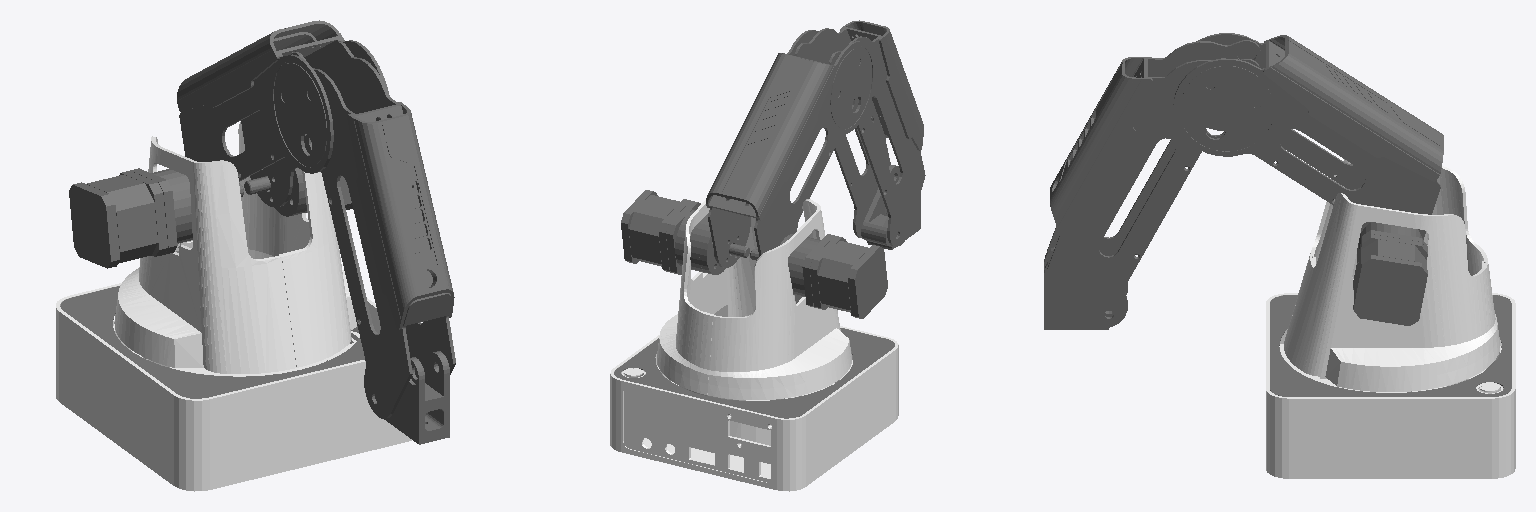
The robot description file, URDF, robot "magician":
<?xml version="1.0" encoding="utf-8"?>
<!-- =================================================================================== -->
<!-- |    This document was autogenerated by xacro from magician.urdf.xacro            | -->
<!-- |    EDITING THIS FILE BY HAND IS NOT RECOMMENDED                                 | -->
<!-- =================================================================================== -->
<!-- This URDF was automatically created by SolidWorks to URDF Exporter! Originally created by [author] ([email redacted]) 
     Commit Version: 1.5.0-0-g9aa0fdb  Build Version: 1.5.7004.21443
     For more information, please see http://wiki.ros.org/sw_urdf_exporter -->
<robot name="magician">
  <!-- ros_control plugin -->
  <gazebo>
    <plugin filename="libgazebo_ros_control.so" name="gazebo_ros_control">
      <robotSimType>gazebo_ros_control/DefaultRobotHWSim</robotSimType>
      <legacyModeNS>true</legacyModeNS>
    </plugin>
  </gazebo>
  <!-- mimicjoints -->
  <gazebo>
    <plugin filename="libroboticsgroup_gazebo_mimic_joint_plugin.so" name="mimic_plugin1">
      <joint>magician_joint2</joint>
      <mimicJoint>magician_fake_joint1</mimicJoint>
      <multiplier>-1.0</multiplier>
    </plugin>
  </gazebo>
  <gazebo>
    <plugin filename="libroboticsgroup_gazebo_mimic_joint_plugin.so" name="mimic_plugin2">
      <joint>magician_joint3</joint>
      <mimicJoint>magician_fake_joint2</mimicJoint>
      <multiplier>-1.0</multiplier>
    </plugin>
  </gazebo>
  <!-- visual -->
  <gazebo reference="magician_base_surface">
    <visual name="visual">
      <material>
        <script>
          <uri>file:/[local-path]/scripts/gazebo.material</uri>
          <name>Gazebo/Grey</name>
        </script>
      </material>
    </visual>
  </gazebo>
  <gazebo reference="magician_servos">
    <visual name="visual">
      <material>
        <script>
          <uri>file:/[local-path]/scripts/gazebo.material</uri>
          <name>Gazebo/Grey</name>
        </script>
      </material>
    </visual>
  </gazebo>
  <gazebo reference="magician_link2">
    <visual name="visual">
      <material>
        <script>
          <uri>file:/[local-path]/scripts/gazebo.material</uri>
          <name>Gazebo/Grey</name>
        </script>
      </material>
    </visual>
  </gazebo>
  <gazebo reference="magician_link2_surface">
    <visual name="visual">
      <material>
        <script>
          <uri>file:/[local-path]/scripts/gazebo.material</uri>
          <name>Gazebo/Grey</name>
        </script>
      </material>
    </visual>
  </gazebo>
  <gazebo reference="magician_link3">
    <visual name="visual">
      <material>
        <script>
          <uri>file:/[local-path]/scripts/gazebo.material</uri>
          <name>Gazebo/Grey</name>
        </script>
      </material>
    </visual>
  </gazebo>
  <gazebo reference="magician_link3_surface">
    <visual name="visual">
      <material>
        <script>
          <uri>file:/[local-path]/scripts/gazebo.material</uri>
          <name>Gazebo/Grey</name>
        </script>
      </material>
    </visual>
  </gazebo>
  <gazebo reference="magician_link4">
    <visual name="visual">
      <material>
        <script>
          <uri>file:/[local-path]/scripts/gazebo.material</uri>
          <name>Gazebo/Grey</name>
        </script>
      </material>
    </visual>
  </gazebo>
  <link name="base_link">
    <inertial>
      <origin rpy="0 0 0" xyz="-0.00019215 -0.10884 0.23391"/>
      <mass value="26.051"/>
      <inertia ixx="0.52558" ixy="-0.00076155" ixz="0.00076702" iyy="1.5311" iyz="0.016651" izz="1.1217"/>
    </inertial>
    <visual>
      <origin rpy="0 0 0" xyz="0 0 0"/>
      <geometry>
        <mesh filename="package://magician_description/meshes/base_link.STL"/>
      </geometry>
      <material name="">
        <color rgba="0.52941 0.54902 0.54902 1"/>
      </material>
    </visual>
    <collision>
      <origin rpy="0 0 0" xyz="0 0 0"/>
      <geometry>
        <mesh filename="package://magician_description/meshes/base_link.STL"/>
      </geometry>
    </collision>
  </link>
  <link name="camera1">
    <inertial>
      <origin rpy="0 0 0" xyz="-0.0125 0.006 -2.7756E-17"/>
      <mass value="0.02"/>
      <inertia ixx="2.7483E-06" ixy="-5.6469E-23" ixz="4.5613E-23" iyy="2.0833E-06" iyz="2.9848E-23" izz="2.7483E-06"/>
    </inertial>
    <visual>
      <origin rpy="0 0 0" xyz="0 0 0"/>
      <geometry>
        <mesh filename="package://magician_description/meshes/camera1.STL"/>
      </geometry>
      <material name="">
        <color rgba="0.79608 0.82353 0.93725 1"/>
      </material>
    </visual>
    <collision>
      <origin rpy="0 0 0" xyz="0 0 0"/>
      <geometry>
        <mesh filename="package://magician_description/meshes/camera1.STL"/>
      </geometry>
    </collision>
  </link>
  <joint name="camera1" type="fixed">
    <origin rpy="0 0 0" xyz="-0.215 0.582 0.1115"/>
    <parent link="base_link"/>
    <child link="camera1"/>
    <axis xyz="0 0 0"/>
  </joint>
  <link name="camera2">
    <inertial>
      <origin rpy="0 0 0" xyz="0.0125 0.006 0"/>
      <mass value="0.02"/>
      <inertia ixx="2.7483E-06" ixy="-1.7546E-23" ixz="-8.267E-23" iyy="2.0833E-06" iyz="3.5827E-22" izz="2.7483E-06"/>
    </inertial>
    <visual>
      <origin rpy="0 0 0" xyz="0 0 0"/>
      <geometry>
        <mesh filename="package://magician_description/meshes/camera2.STL"/>
      </geometry>
      <material name="">
        <color rgba="0.79608 0.82353 0.93725 1"/>
      </material>
    </visual>
    <collision>
      <origin rpy="0 0 0" xyz="0 0 0"/>
      <geometry>
        <mesh filename="package://magician_description/meshes/camera2.STL"/>
      </geometry>
    </collision>
  </link>
  <joint name="camera2" type="fixed">
    <origin rpy="0 0 0" xyz="0.233 0.582 0.1115 "/>
    <parent link="base_link"/>
    <child link="camera2"/>
    <axis xyz="0 0 0"/>
  </joint>
  <transmission name="magician_joint1_trans">
    <type>transmission_interface/SimpleTransmission</type>
    <joint name="magician_joint1">
      <hardwareInterface>hardware_interface/PositionJointInterface</hardwareInterface>
    </joint>
    <actuator name="magician_joint1_motor">
      <mechanicalReduction>1</mechanicalReduction>
    </actuator>
  </transmission>
  <transmission name="magician_joint2_trans">
    <type>transmission_interface/SimpleTransmission</type>
    <joint name="magician_joint2">
      <hardwareInterface>hardware_interface/PositionJointInterface</hardwareInterface>
    </joint>
    <actuator name="magician_joint2_motor">
      <mechanicalReduction>1</mechanicalReduction>
    </actuator>
  </transmission>
  <transmission name="magician_fake_joint1">
    <type>transmission_interface/SimpleTransmission</type>
    <joint name="magician_fake_joint1">
      <hardwareInterface>hardware_interface/PositionJointInterface</hardwareInterface>
    </joint>
    <actuator name="magician_fake_joint1_motor">
      <mechanicalReduction>1</mechanicalReduction>
    </actuator>
  </transmission>
  <transmission name="magician_joint3_trans">
    <type>transmission_interface/SimpleTransmission</type>
    <joint name="magician_joint3">
      <hardwareInterface>hardware_interface/PositionJointInterface</hardwareInterface>
    </joint>
    <actuator name="magician_joint3_motor">
      <mechanicalReduction>1</mechanicalReduction>
    </actuator>
  </transmission>
  <transmission name="magician_fake_joint2">
    <type>transmission_interface/SimpleTransmission</type>
    <joint name="magician_fake_joint2">
      <hardwareInterface>hardware_interface/PositionJointInterface</hardwareInterface>
    </joint>
    <actuator name="magician_fake_joint2_motor">
      <mechanicalReduction>1</mechanicalReduction>
    </actuator>
  </transmission>
  <link name="world"/>
  <joint name="world_joint" type="fixed">
    <origin rpy="0 0 0" xyz="0 0 0"/>
    <parent link="world"/>
    <child link="base_link"/>
    <axis xyz="0 0 0"/>
  </joint>
  <link name="magician_origin"/>
  <joint name="magician_frame_joint" type="fixed">
    <origin rpy="0 0 0" xyz="0 0 0.262"/>
    <parent link="base_link"/>
    <child link="magician_origin"/>
    <axis xyz="0 0 0"/>
  </joint>
  <link name="magician_base">
    <inertial>
      <origin rpy="0 0 0" xyz="-0.00035432 -0.00080566 0.023187"/>
      <mass value="0.23009"/>
      <inertia ixx="0.00065784" ixy="-4.8312E-06" ixz="1.2493E-06" iyy="0.00069673" iyz="4.3823E-07" izz="0.0012945"/>
    </inertial>
    <visual>
      <origin rpy="0 0 0" xyz="0 0 0"/>
      <geometry>
        <mesh filename="package://magician_description/meshes/magician_base.STL"/>
      </geometry>
      <material name="">
        <color rgba="1 1 1 1"/>
      </material>
    </visual>
    <collision>
      <origin rpy="0 0 0" xyz="0 0 0"/>
      <geometry>
        <mesh filename="package://magician_description/meshes/magician_base.STL"/>
      </geometry>
    </collision>
  </link>
  <joint name="magician_origin_joint1" type="fixed">
    <origin rpy="0 0 0" xyz="0 0 -0.139"/>
    <parent link="magician_origin"/>
    <child link="magician_base"/>
    <axis xyz="0 0 0"/>
  </joint>
  <link name="magician_link1">
    <inertial>
      <origin rpy="0 0 0" xyz="0.00024809 -0.00074864 0.040762"/>
      <mass value="0.081469"/>
      <inertia ixx="0.00020859" ixy="8.163E-08" ixz="4.6298E-07" iyy="9.5838E-05" iyz="3.2246E-06" izz="0.00015246"/>
    </inertial>
    <visual>
      <origin rpy="0 0 0" xyz="0 0 0"/>
      <geometry>
        <mesh filename="package://magician_description/meshes/magician_link1.STL"/>
      </geometry>
      <material name="">
        <color rgba="1 1 1 1"/>
      </material>
    </visual>
    <collision>
      <origin rpy="0 0 0" xyz="0 0 0"/>
      <geometry>
        <mesh filename="package://magician_description/meshes/magician_link1.STL"/>
      </geometry>
    </collision>
  </link>
  <joint name="magician_joint1" type="revolute">
    <origin rpy="0 0 0" xyz="0 0 0.0569"/>
    <parent link="magician_base"/>
    <child link="magician_link1"/>
    <axis xyz="0 0 1"/>
    <limit effort="6" lower="-2.1816" upper="2.1816" velocity="1.57"/>
  </joint>
  <link name="magician_link2">
    <inertial>
      <origin rpy="0 0 0" xyz="-0.076276 0.029436 2.1815E-06"/>
      <mass value="0.047726"/>
      <inertia ixx="3.5818E-05" ixy="-4.4023E-06" ixz="-7.1903E-09" iyy="0.00014556" iyz="2.3353E-09" izz="0.00015167"/>
    </inertial>
    <visual>
      <origin rpy="0 0 0" xyz="0 0 0"/>
      <geometry>
        <mesh filename="package://magician_description/meshes/magician_link2.STL"/>
      </geometry>
      <material name="">
        <color rgba="0.501960784313725 0.501960784313725 0.501960784313725 1"/>
      </material>
    </visual>
    <collision>
      <origin rpy="0 0 0" xyz="0 0 0"/>
      <geometry>
        <mesh filename="package://magician_description/meshes/magician_link2.STL"/>
      </geometry>
    </collision>
  </link>
  <joint name="magician_joint2" type="revolute">
    <origin rpy="0 1.5707963267948966 0" xyz="0 0 0.0821"/>
    <parent link="magician_link1"/>
    <child link="magician_link2"/>
    <axis xyz="0 0 1"/>
    <limit effort="6" lower="0.35" upper="1.57" velocity="1.57"/>
  </joint>
  <link name="magician_link3">
    <inertial>
      <origin rpy="0 0 0" xyz="0.029209 -0.054163 -8.4342E-05"/>
      <mass value="0.042983"/>
      <inertia ixx="0.00013733" ixy="-9.7605E-08" ixz="-1.1091E-07" iyy="2.3432E-05" iyz="3.5599E-07" izz="0.00014558"/>
    </inertial>
    <visual>
      <origin rpy="0 0 0" xyz="0 0 0"/>
      <geometry>
        <mesh filename="package://magician_description/meshes/magician_link3.STL"/>
      </geometry>
      <material name="">
        <color rgba="0.501960784313725 0.501960784313725 0.501960784313725 1"/>
      </material>
    </visual>
    <collision>
      <origin rpy="0 0 0" xyz="0 0 0"/>
      <geometry>
        <mesh filename="package://magician_description/meshes/magician_link3.STL"/>
      </geometry>
    </collision>
  </link>
  <joint name="magician_fake_joint1" type="revolute">
    <origin rpy="-3.1415926535897932 0 -3.1415926535897932" xyz="-0.135 0 0"/>
    <parent link="magician_link2"/>
    <child link="magician_fake_link"/>
    <axis xyz="0 0 -1"/>
    <limit effort="6" lower="-1.57" upper="-0.35" velocity="1.57"/>
    <mimic joint="magician_joint2" multiplier="-1" offset="0"/>
  </joint>
  <link name="magician_fake_link">
    <inertial>
      <origin rpy="0 0 0" xyz="0 0 0"/>
      <mass value="0.025"/>
      <inertia ixx="2.5E-4" ixy="0" ixz="0" iyy="2.5E-4" iyz="0" izz="2.5E-4"/>
    </inertial>
  </link>
  <joint name="magician_joint3" type="revolute">
    <origin rpy="0 0 0" xyz="0 0 0"/>
    <parent link="magician_fake_link"/>
    <child link="magician_link3"/>
    <axis xyz="0 0 -1"/>
    <limit effort="6" lower="0.62" upper="1.57" velocity="1.57"/>
  </joint>
  <link name="magician_link4">
    <inertial>
      <origin rpy="0 0 0" xyz="-0.019694 0.0034659 0.0001155"/>
      <mass value="0.020564"/>
      <inertia ixx="3.7203E-06" ixy="7.6009E-07" ixz="3.146E-08" iyy="4.5639E-06" iyz="-5.7432E-08" izz="6.427E-06"/>
    </inertial>
    <visual>
      <origin rpy="0 0 0" xyz="0 0 0"/>
      <geometry>
        <mesh filename="package://magician_description/meshes/magician_link4.STL"/>
      </geometry>
      <material name="">
        <color rgba="0.501960784313725 0.501960784313725 0.501960784313725 1"/>
      </material>
    </visual>
    <collision>
      <origin rpy="0 0 0" xyz="0 0 0"/>
      <geometry>
        <mesh filename="package://magician_description/meshes/magician_link4.STL"/>
      </geometry>
    </collision>
  </link>
  <joint name="magician_fake_joint2" type="revolute">
    <origin rpy="3.1415926535897932 0 1.5707963267948966" xyz="0 -0.147 0"/>
    <parent link="magician_link3"/>
    <child link="magician_link4"/>
    <axis xyz="0 0 1"/>
    <limit effort="6" lower="-1.57" upper="-0.62" velocity="1.57"/>
    <mimic joint="magician_joint3" multiplier="-1" offset="0"/>
  </joint>
  <link name="magician_arm_end"/>
  <joint name="magician_link4_joint1" type="fixed">
    <origin rpy="-1.5707963267948966 3.1415926535897932 0" xyz="0 0 0"/>
    <parent link="magician_link4"/>
    <child link="magician_arm_end"/>
  </joint>
  <link name="magician_link3_surface">
    <inertial>
      <origin rpy="0 0 0" xyz="0.059385 -0.050176 -2.6308E-06"/>
      <mass value="0.015005"/>
      <inertia ixx="1.8842E-05" ixy="-3.9211E-07" ixz="4.9615E-10" iyy="3.6097E-06" iyz="-1.2797E-09" izz="1.6901E-05"/>
    </inertial>
    <visual>
      <origin rpy="0 0 0" xyz="0 0 0"/>
      <geometry>
        <mesh filename="package://magician_description/meshes/magician_link3_surface.STL"/>
      </geometry>
      <material name="">
        <color rgba="0.501960784313725 0.501960784313725 0.501960784313725 1"/>
      </material>
    </visual>
    <collision>
      <origin rpy="0 0 0" xyz="0 0 0"/>
      <geometry>
        <mesh filename="package://magician_description/meshes/magician_link3_surface.STL"/>
      </geometry>
    </collision>
  </link>
  <joint name="magician_link3_joint1" type="fixed">
    <origin rpy="0 0 0" xyz="0 0 0"/>
    <parent link="magician_link3"/>
    <child link="magician_link3_surface"/>
    <axis xyz="0 0 0"/>
  </joint>
  <link name="magician_link2_surface">
    <inertial>
      <origin rpy="0 0 0" xyz="-0.066726 0.060698 5.5359E-07"/>
      <mass value="0.018846"/>
      <inertia ixx="5.9574E-06" ixy="-5.1053E-08" ixz="3.3782E-09" iyy="2.8034E-05" iyz="-1.6336E-11" izz="2.3816E-05"/>
    </inertial>
    <visual>
      <origin rpy="0 0 0" xyz="0 0 0"/>
      <geometry>
        <mesh filename="package://magician_description/meshes/magician_link2_surface.STL"/>
      </geometry>
      <material name="">
        <color rgba="0.501960784313725 0.501960784313725 0.501960784313725 1"/>
      </material>
    </visual>
    <collision>
      <origin rpy="0 0 0" xyz="0 0 0"/>
      <geometry>
        <mesh filename="package://magician_description/meshes/magician_link2_surface.STL"/>
      </geometry>
    </collision>
  </link>
  <joint name="magician_link2_joint1" type="fixed">
    <origin rpy="0 0 0" xyz="0 0 0"/>
    <parent link="magician_link2"/>
    <child link="magician_link2_surface"/>
    <axis xyz="0 0 0"/>
  </joint>
  <link name="magician_servos">
    <inertial>
      <origin rpy="0 0 0" xyz="-3.3282E-06 0 0.0821"/>
      <mass value="0.21777"/>
      <inertia ixx="5.4372E-05" ixy="-1.467E-18" ixz="-1.6192E-19" iyy="0.00011754" iyz="7.4188E-21" izz="0.00011754"/>
    </inertial>
    <visual>
      <origin rpy="0 0 0" xyz="0 0 0"/>
      <geometry>
        <mesh filename="package://magician_description/meshes/magician_servos.STL"/>
      </geometry>
      <material name="">
        <color rgba="0.501960784313725 0.501960784313725 0.501960784313725 1"/>
      </material>
    </visual>
    <collision>
      <origin rpy="0 0 0" xyz="0 0 0"/>
      <geometry>
        <mesh filename="package://magician_description/meshes/magician_servos.STL"/>
      </geometry>
    </collision>
  </link>
  <joint name="magician_link1_joint1" type="fixed">
    <origin rpy="0 0 0" xyz="0 0 0"/>
    <parent link="magician_link1"/>
    <child link="magician_servos"/>
    <axis xyz="0 0 0"/>
  </joint>
  <link name="magician_base_surface">
    <inertial>
      <origin rpy="0 0 0" xyz="0 0 0"/>
      <mass value="0"/>
      <inertia ixx="0" ixy="0" ixz="0" iyy="0" iyz="0" izz="0"/>
    </inertial>
    <visual>
      <origin rpy="0 0 0" xyz="0 0 0"/>
      <geometry>
        <mesh filename="package://magician_description/meshes/magician_base_surface.STL"/>
      </geometry>
      <material name="">
        <color rgba="0.501960784313725 0.501960784313725 0.501960784313725 1"/>
      </material>
    </visual>
    <collision>
      <origin rpy="0 0 0" xyz="0 0 0"/>
      <geometry>
        <mesh filename="package://magician_description/meshes/magician_base_surface.STL"/>
      </geometry>
    </collision>
  </link>
  <joint name="magician_base_joint1" type="fixed">
    <origin rpy="0 0 0" xyz="0 0 0"/>
    <parent link="magician_base"/>
    <child link="magician_base_surface"/>
    <axis xyz="0 0 0"/>
  </joint>
  <link name="magician_end_turnplate"/>
  <joint name="magician_fake_joint3" type="revolute">
    <origin rpy="0 0 0" xyz="0 0 0"/>
    <parent link="magician_arm_end"/>
    <child link="magician_end_turnplate"/>
    <axis xyz="0 0 1"/>
    <limit effort="6" lower="-2.1816" upper="2.1816" velocity="1.57"/>
    <mimic joint="magician_joint1" multiplier="-1" offset="0"/>
  </joint>
  <link name="magician_end_link"/>
  <joint name="magician_end_turnplate_joint1" type="fixed">
    <origin rpy="0 0 0" xyz="0 0 0"/>
    <parent link="magician_end_turnplate"/>
    <child link="magician_end_link"/>
    <axis xyz="0 0 0"/>
  </joint>
  <link name="magician_end_effctor"/>
  <joint name="magician_end_link_joint1" type="fixed">
    <origin rpy="0 0 0" xyz="0 0 0"/>
    <parent link="magician_end_link"/>
    <child link="magician_end_effctor"/>
    <axis xyz="0 0 0"/>
  </joint>
</robot>

--- What the picture shows (computed from the rendered views, not written in the file) ---
3 views of the same robot in one strip: view 1: azimuth 30°, elevation 25°; view 2: azimuth 150°, elevation 25°; view 3: azimuth 270°, elevation 25° (orthographic).
Model magician with 19 links and 18 joints (6 revolute, 12 fixed), rooted at world, posed all joints at 0 but 4 set to mid-range because 0 is outside their limits (magician_joint2 = 0.96, magician_fake_joint1 = -0.96, magician_joint3 = 1.09, magician_fake_joint2 = -1.09).
Links seen in each view (by area): view 1: magician_link1, magician_base, magician_link3, magician_link2, magician_link3_surface, magician_servos, magician_base_surface, magician_link2_surface, magician_link4; view 2: magician_link1, magician_base, magician_servos, magician_link2_surface, magician_link3, magician_link2, magician_base_surface, magician_link3_surface, magician_link4; view 3: magician_link1, magician_base, magician_link2, magician_link3, magician_link2_surface, magician_link3_surface, magician_servos, magician_base_surface, magician_link4.
Boxes of the visible links, x1,y1,x2,y2 form: magician_link1: (114,122,356,373); magician_base: (56,283,411,491); magician_link3: (291,41,455,418); magician_link2: (179,36,389,207); magician_link3_surface: (347,102,454,329); magician_servos: (69,168,352,268); magician_base_surface: (60,286,380,398); magician_link2_surface: (177,20,344,111); magician_link4: (375,351,449,444); magician_link1: (657,199,851,399); magician_base: (610,326,898,491); magician_servos: (621,190,887,318); magician_link2_surface: (706,53,837,220); magician_link3: (794,27,925,246); magician_link2: (708,30,875,267); magician_base_surface: (614,328,894,418); magician_link3_surface: (840,20,923,150); magician_link4: (861,165,920,249); magician_link1: (1284,157,1499,391); magician_base: (1266,293,1515,478); magician_link2: (1173,33,1440,239); magician_link3: (1047,40,1260,328); magician_link2_surface: (1263,35,1443,181); magician_link3_surface: (1050,57,1152,237); magician_servos: (1353,222,1427,325); magician_base_surface: (1270,295,1511,396); magician_link4: (1044,247,1113,329).
Bounding box of the posed robot: 0.192 × 0.2979 × 0.2668 m (x, y, z).
Meshes: 12 distinct files referenced, 9 mesh visuals loaded (9 binary STL); not drawn: 3 (reference not matched to a file when rendering).